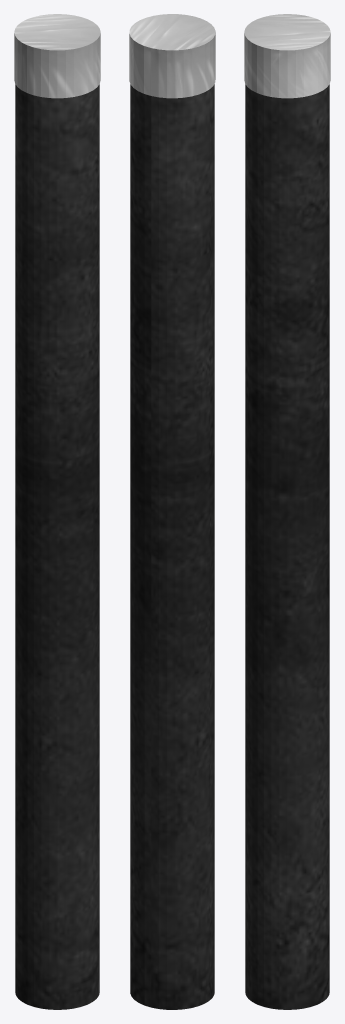
File: 48mmCandleExample.fbx
3 views of the same model, side by side, from view 1: azimuth 90°, elevation 25°; view 2: azimuth 150°, elevation 25°; view 3: azimuth 270°, elevation 25° (orthographic).
Visible parts, largest first — view 1: 40mmCandle, Top Cap; view 2: 40mmCandle, Top Cap; view 3: 40mmCandle, Top Cap.
Part boxes in pixels (<box>): 40mmCandle: <box>15,84,99,1009</box>; Top Cap: <box>14,14,100,98</box>; 40mmCandle: <box>130,84,214,1009</box>; Top Cap: <box>129,14,215,98</box>; 40mmCandle: <box>245,84,329,1009</box>; Top Cap: <box>244,14,330,98</box>.
Size of the model in its own units: 9.8 by 120 by 9.8.
